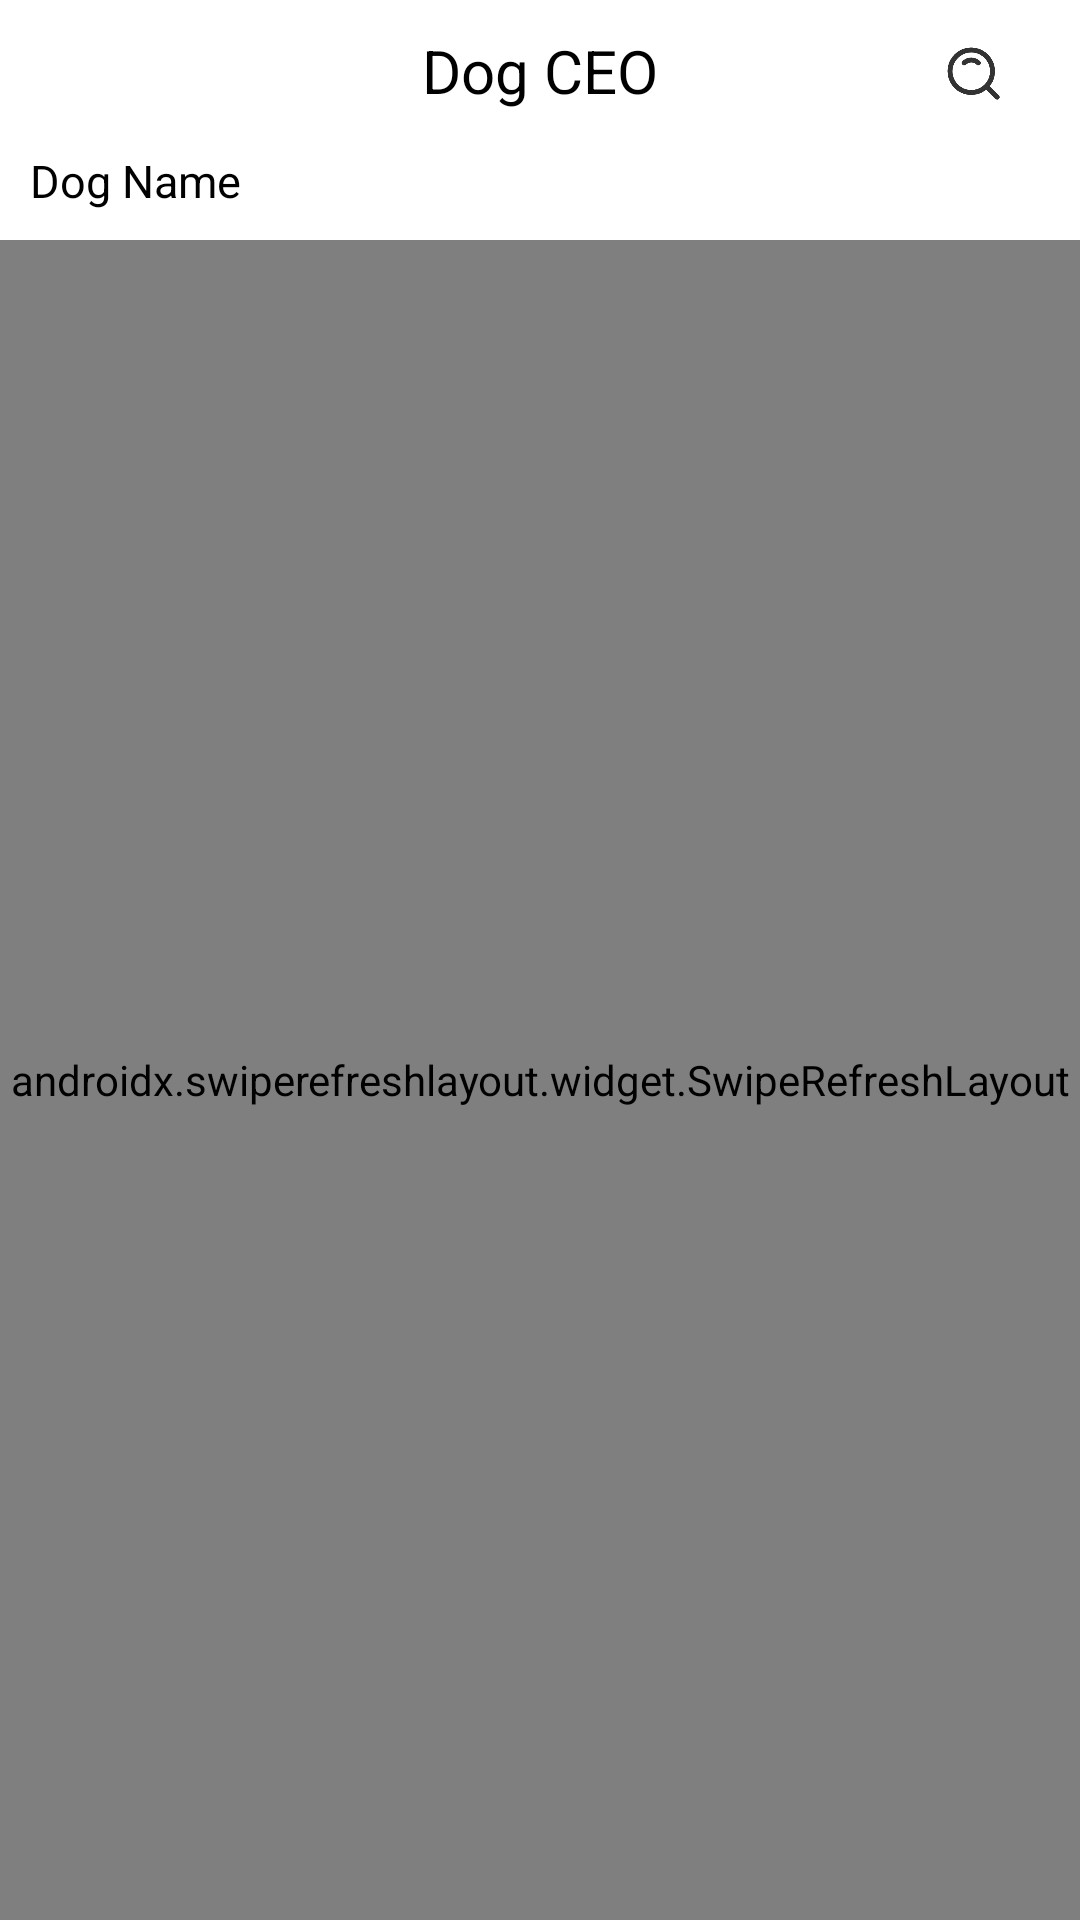

Where icons sit on this 1080px x 1920px app screen, as (x1, y1, x2, y2):
search: (947, 47, 1000, 100)
